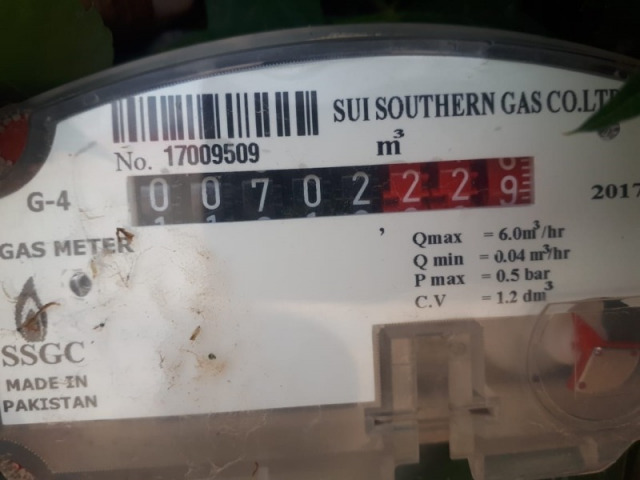ssgc: (125, 157, 537, 224)
